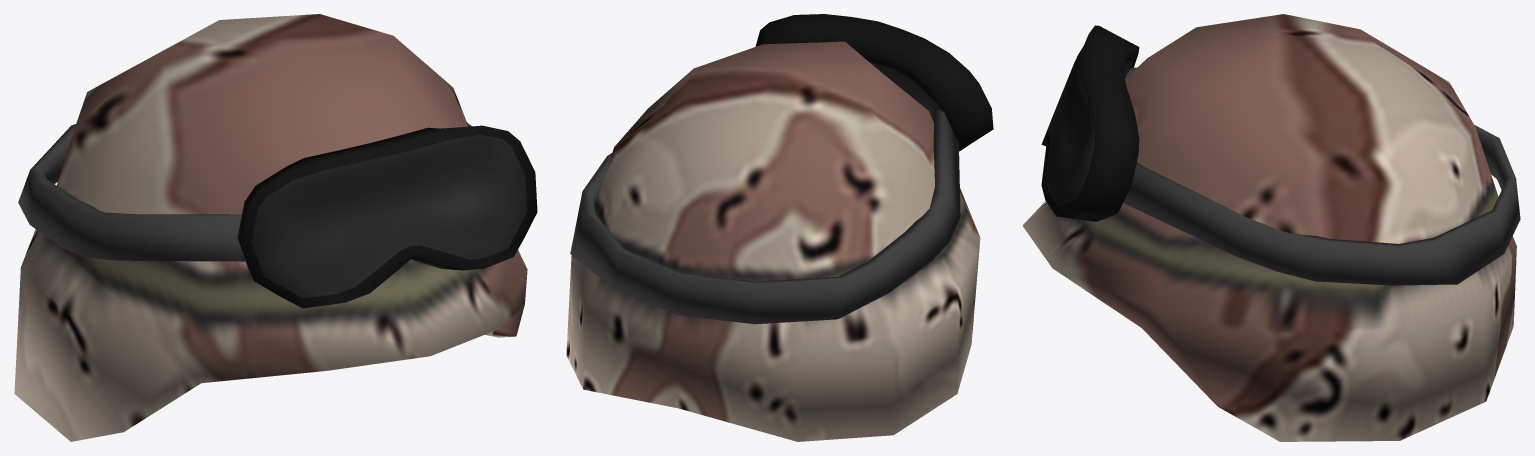
Rendered from PoliceHelmetGoggles_WorldItem.fbx.
3 views of the same model, side by side, from view 1: azimuth 30°, elevation 25°; view 2: azimuth 150°, elevation 25°; view 3: azimuth 270°, elevation 25° (orthographic). The views are drawn at different scales.
Visible parts, largest first — view 1: Cube.003; view 2: Cube.003; view 3: Cube.003.
Part boxes in pixels (left/top/right/bottom): Cube.003: left=14, top=14, right=537, bottom=441; Cube.003: left=566, top=14, right=993, bottom=441; Cube.003: left=1022, top=14, right=1520, bottom=441.
Size of the model in its own units: 0.3369 by 0.2643 by 0.384.
